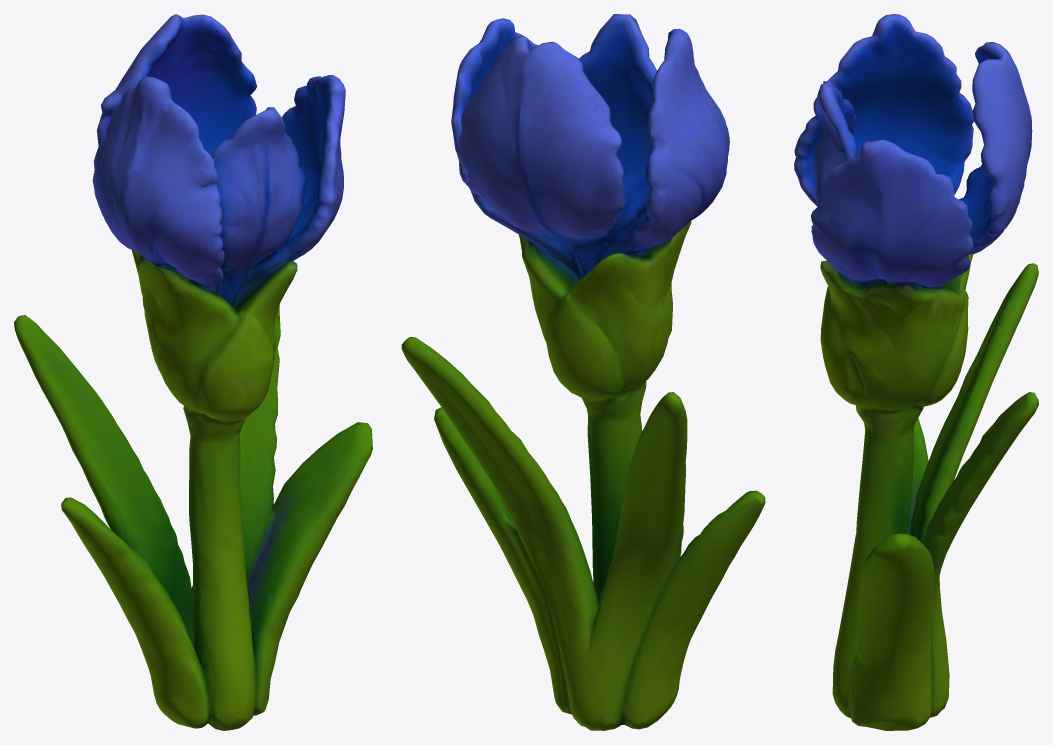
Rendered from iris_s4.glb.
The picture shows the model from 3 angles, left to right: view 1: azimuth 30°, elevation 25°; view 2: azimuth 150°, elevation 25°; view 3: azimuth 270°, elevation 25°; orthographic projection. The views are drawn at different scales.
Bounding box in the file's own units: 0.4903 × 1 × 0.3274.
1 material, 1 textured.
